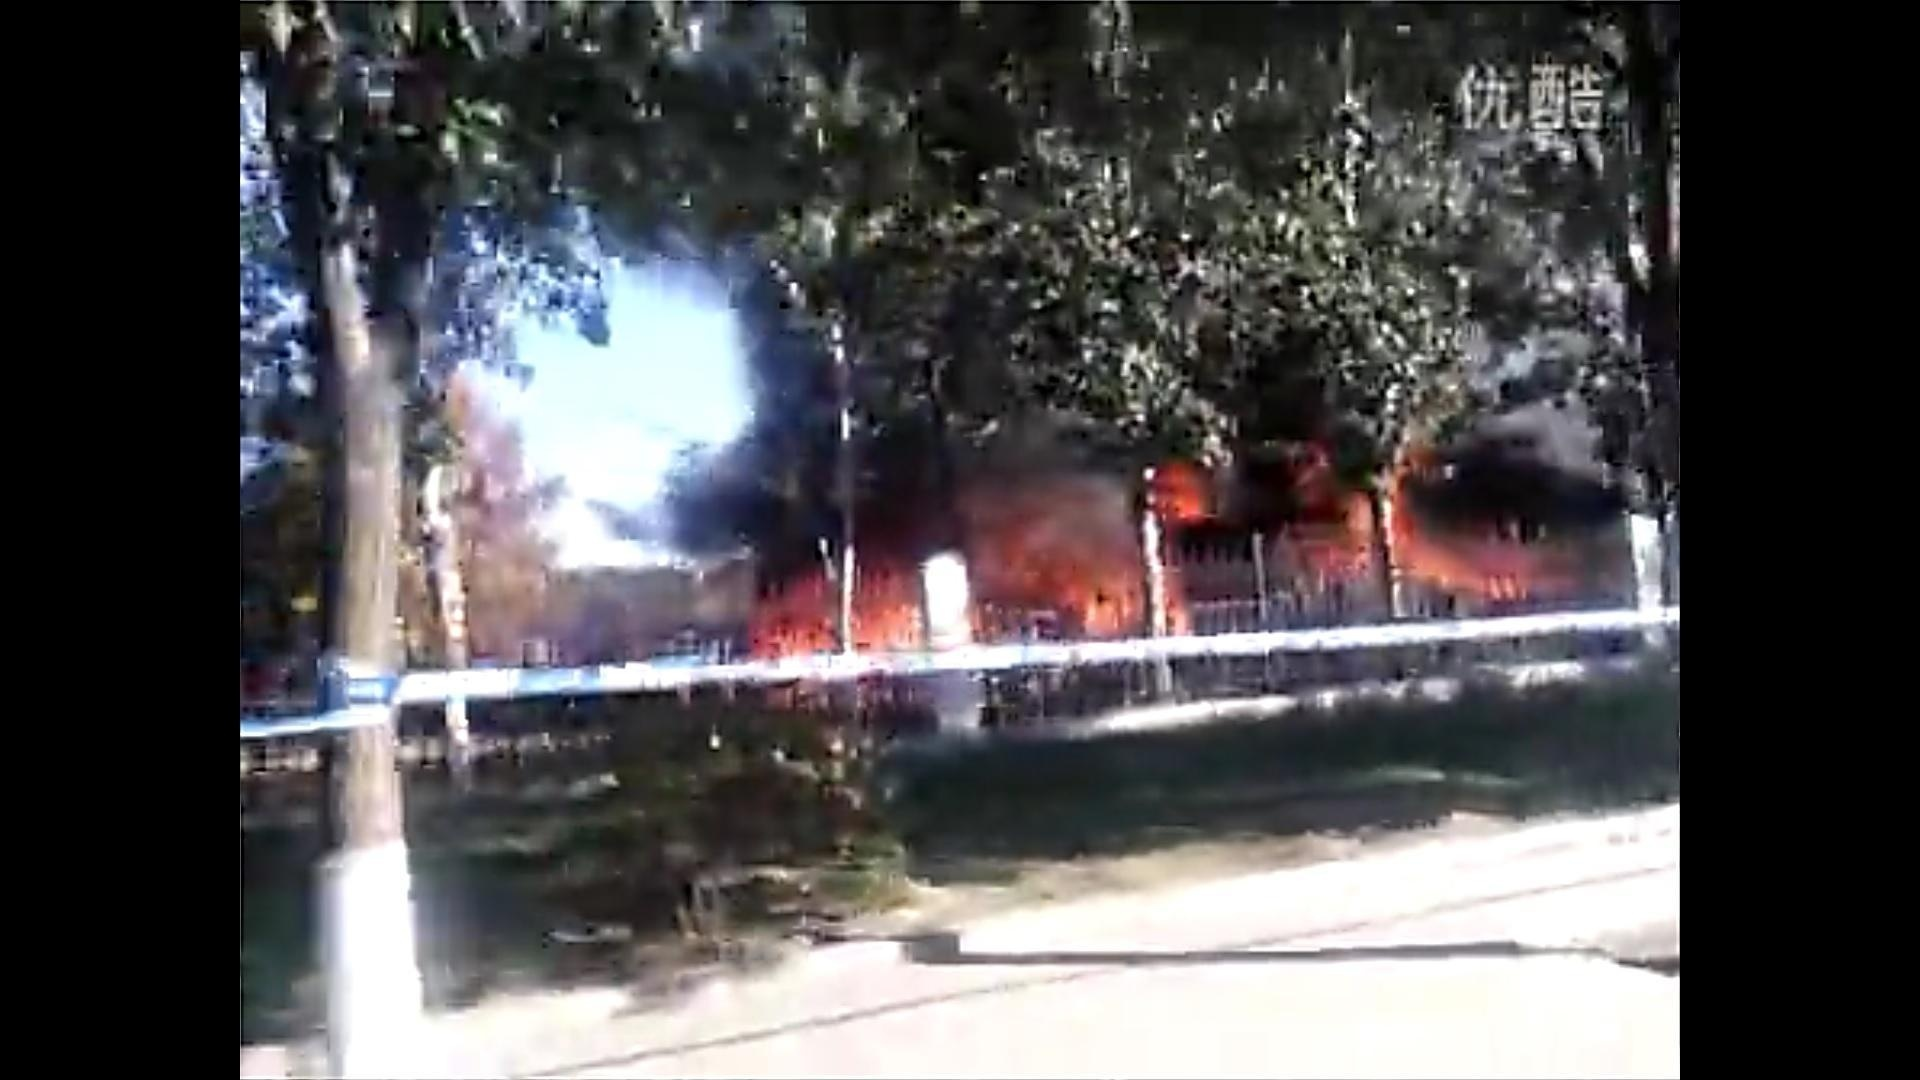fire: (754, 568, 918, 653)
